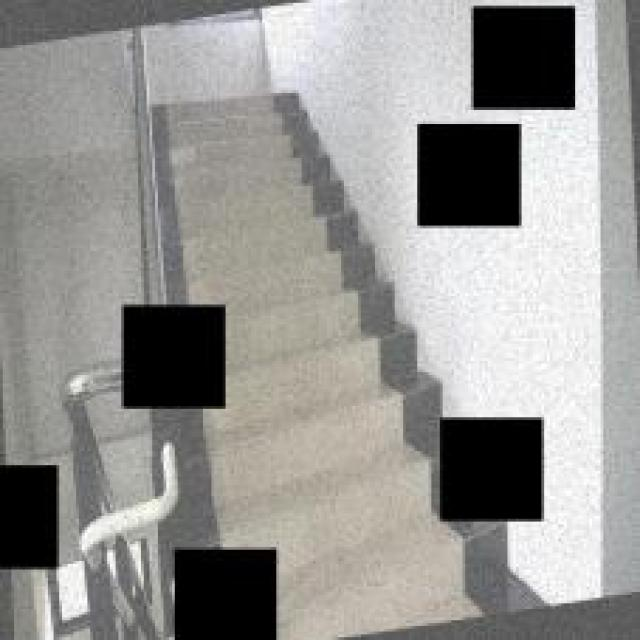upstair: (158, 104, 330, 296)
